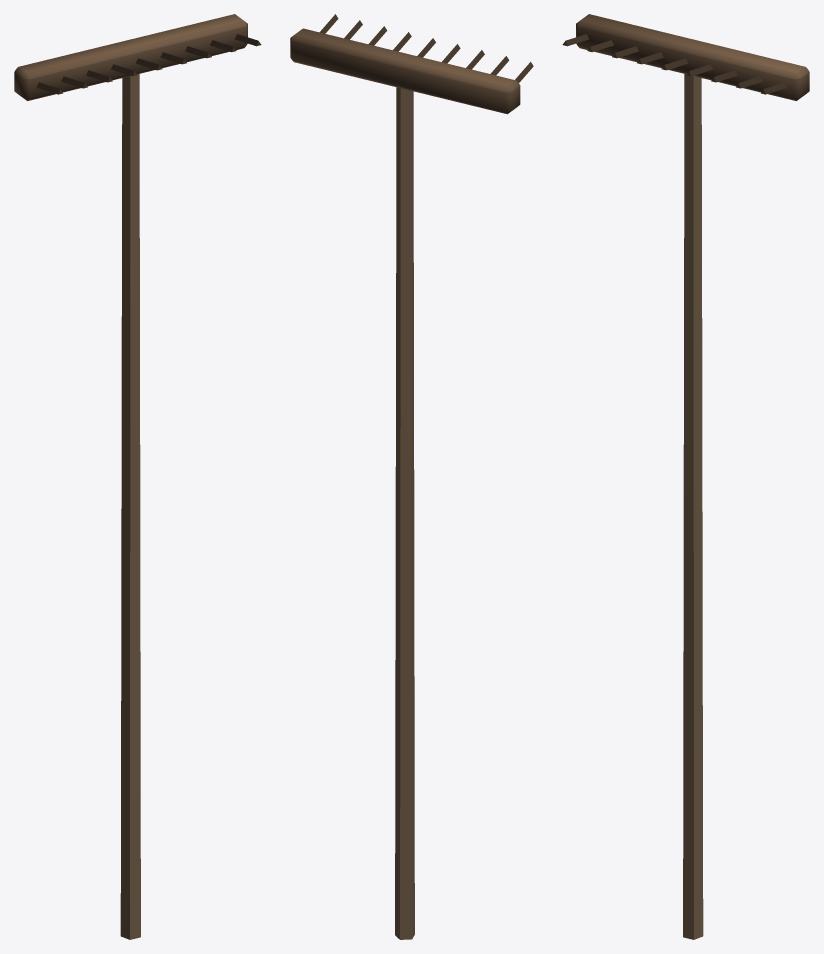
The model's file is ph_tool_rake_small.glb.
The picture shows the model from 3 angles, left to right: view 1: azimuth 30°, elevation 25°; view 2: azimuth 150°, elevation 25°; view 3: azimuth 330°, elevation 25°; orthographic projection.
Visible parts, largest first — view 1: ph_tool_rake_small; view 2: ph_tool_rake_small; view 3: ph_tool_rake_small.
Boxes of the visible parts, left/top/right/bottom form: ph_tool_rake_small: left=14, top=14, right=261, bottom=939; ph_tool_rake_small: left=290, top=14, right=533, bottom=939; ph_tool_rake_small: left=562, top=14, right=809, bottom=939.
Size of the model in its own units: 0.34 by 1.29 by 0.0935.
